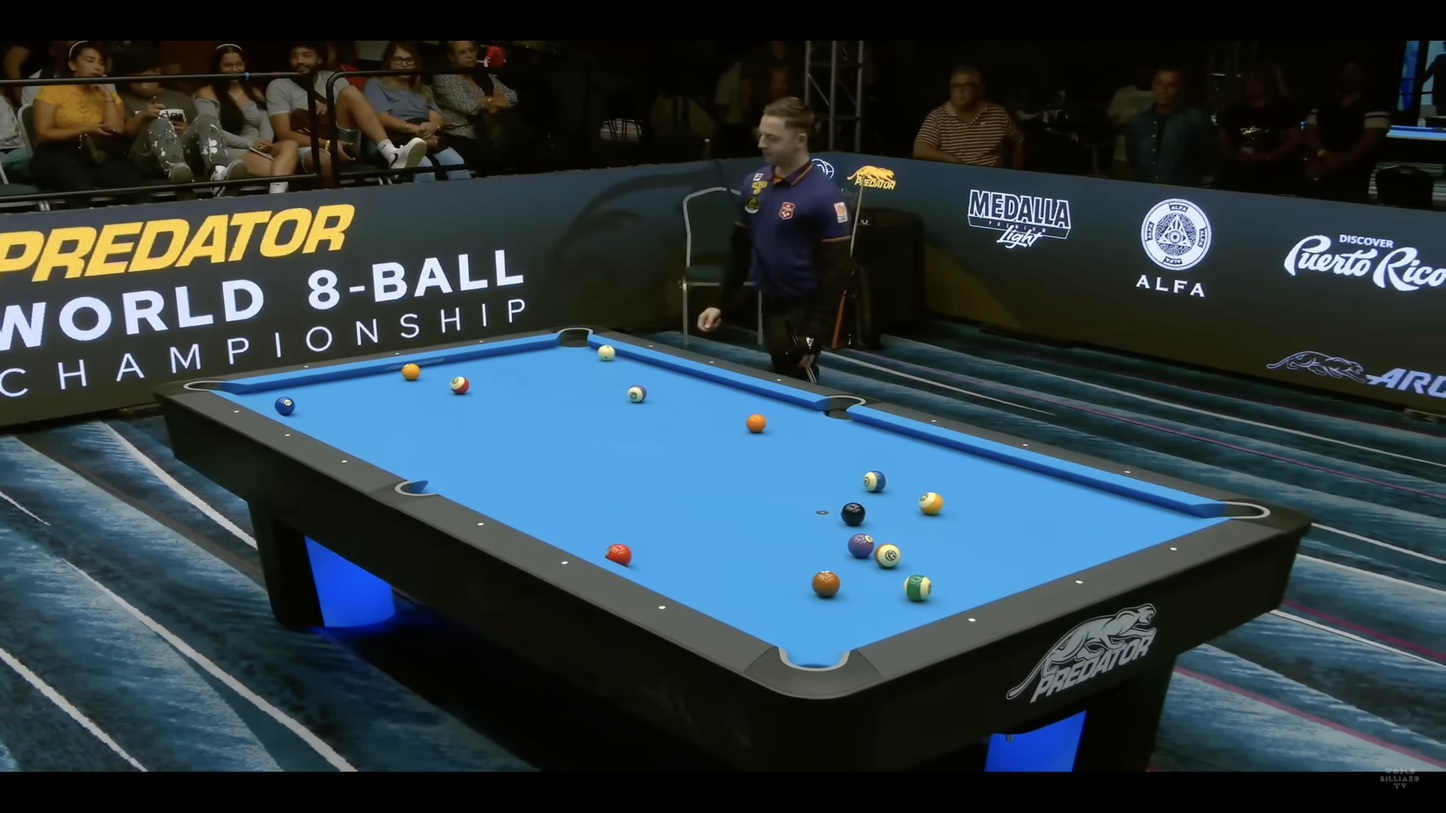Black: (840, 502, 866, 525)
Cue: (598, 345, 615, 361)
Dot: (1019, 441, 1031, 451), (928, 416, 940, 426), (966, 616, 977, 626), (1073, 577, 1084, 587), (1168, 544, 1179, 554), (1122, 467, 1133, 477), (656, 603, 667, 613), (559, 558, 570, 568), (339, 457, 350, 467), (282, 430, 293, 440), (476, 520, 486, 530), (707, 358, 715, 365), (775, 376, 782, 383), (647, 343, 654, 350), (234, 409, 240, 414), (303, 364, 309, 369), (394, 351, 400, 356), (478, 339, 484, 344)
Solid: (811, 570, 840, 596), (847, 533, 874, 557), (604, 544, 631, 566), (275, 397, 296, 416), (746, 414, 766, 432), (402, 363, 421, 380)
Striped: (903, 574, 932, 601), (873, 543, 901, 568), (919, 492, 944, 515), (863, 470, 886, 492), (450, 376, 470, 394), (628, 385, 647, 402)
